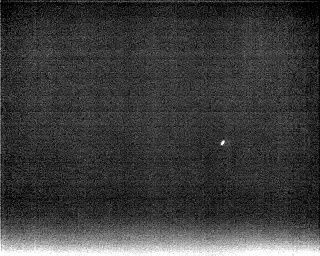BIRD: (218, 137, 227, 149)
